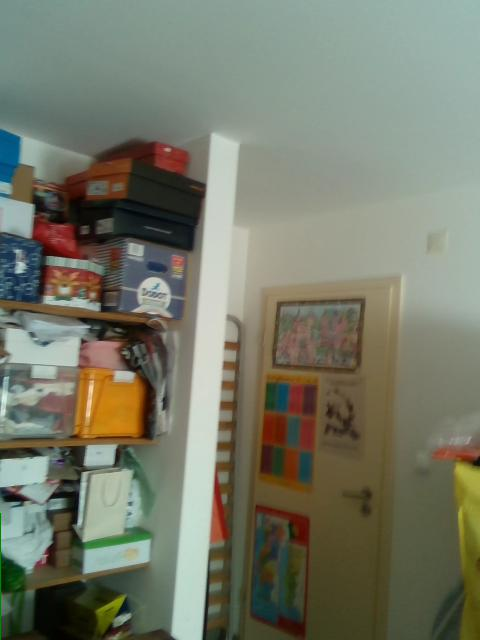door: (236, 276, 401, 638)
